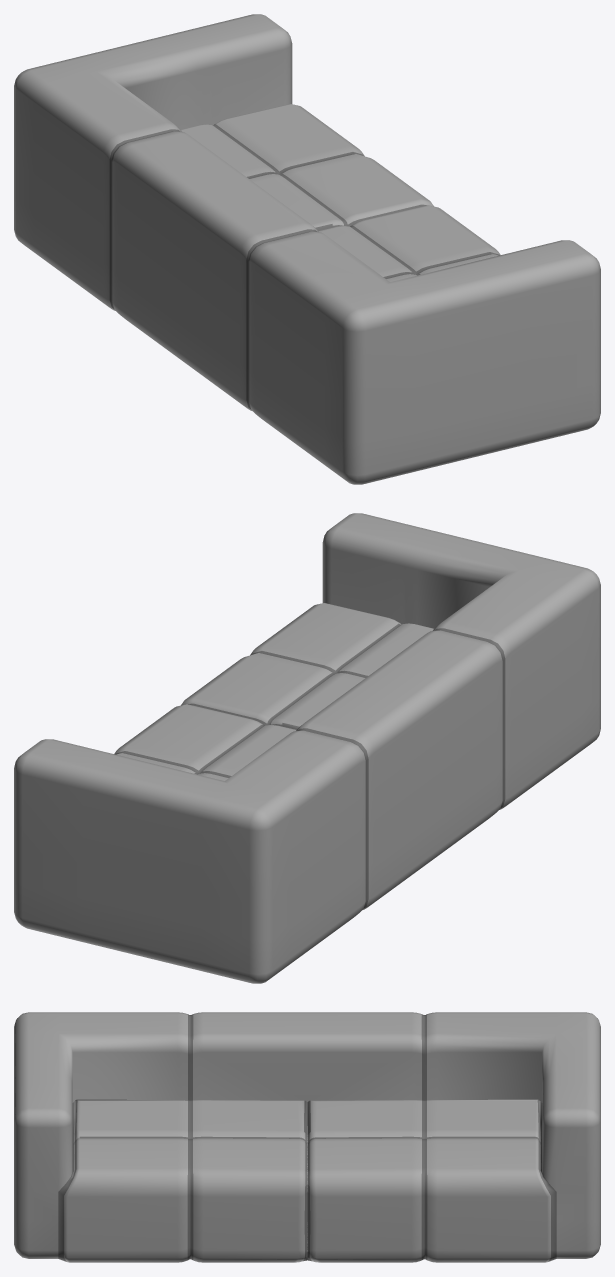
The model's file is Couch2.fbx.
3 renders of one model, top to bottom at view 1: azimuth 30°, elevation 25°; view 2: azimuth 150°, elevation 25°; view 3: azimuth 270°, elevation 25°, orthographic. The views are drawn at different scales.
Parts seen in each view (by area): view 1: pCube14; view 2: pCube14; view 3: pCube14.
Boxes of the visible parts, box(x1,y1,x2,y2) form: pCube14: box(14, 14, 600, 484); pCube14: box(14, 513, 600, 983); pCube14: box(14, 1012, 600, 1262).
Bounding box in the file's own units: 143 × 90.95 × 324.
Materials: 1 (1 with a texture image).
